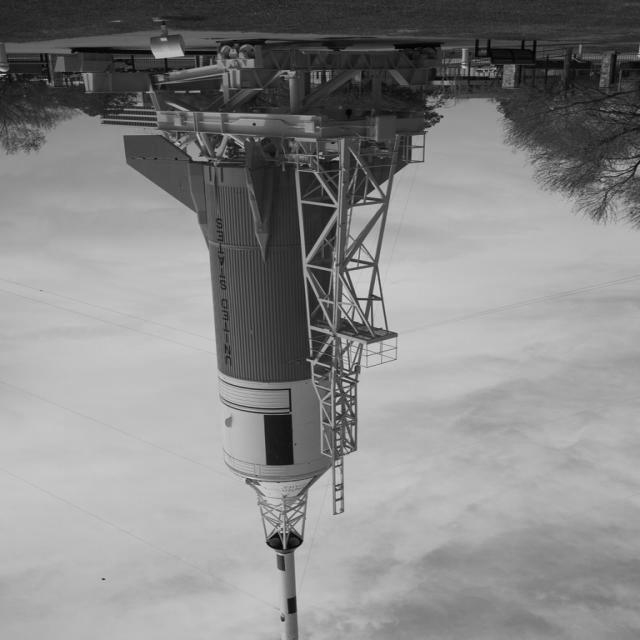missile: (265, 531, 304, 640)
